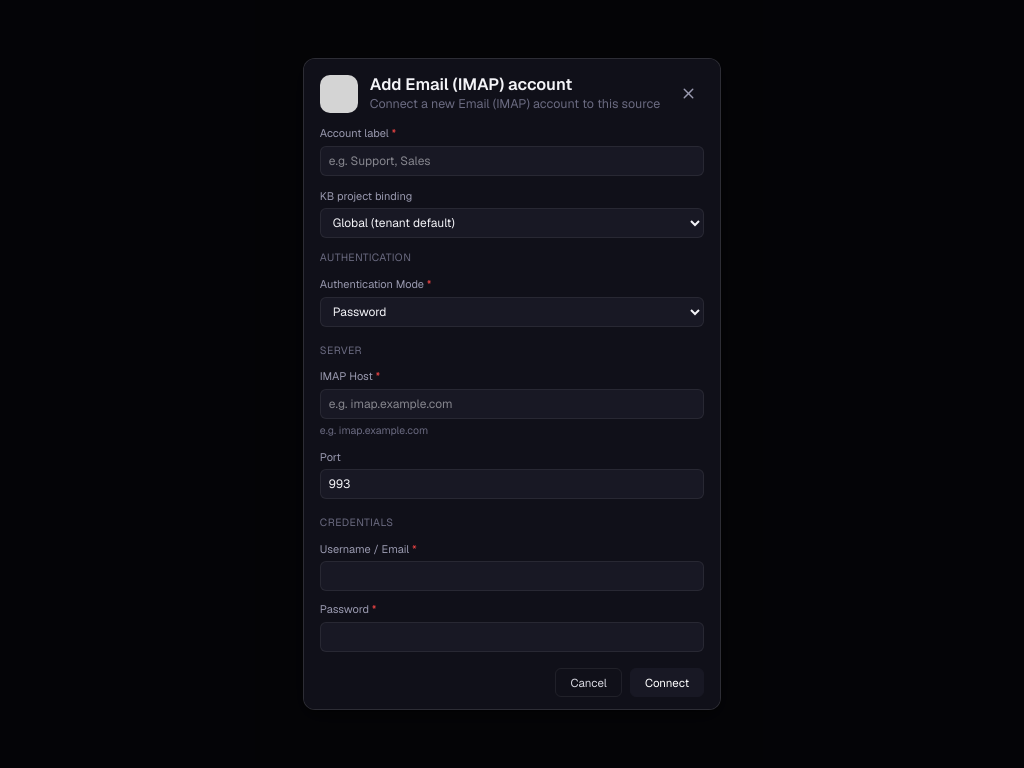
Test: CredentialConnectorForm › honours showIf: switching to xoauth2 hides host/password and reveals the provider
Select "OAuth2" in the dropdown with test id "connector-imap-form-auth_mode": (512, 312) x1=320 y1=297 x2=704 y2=327
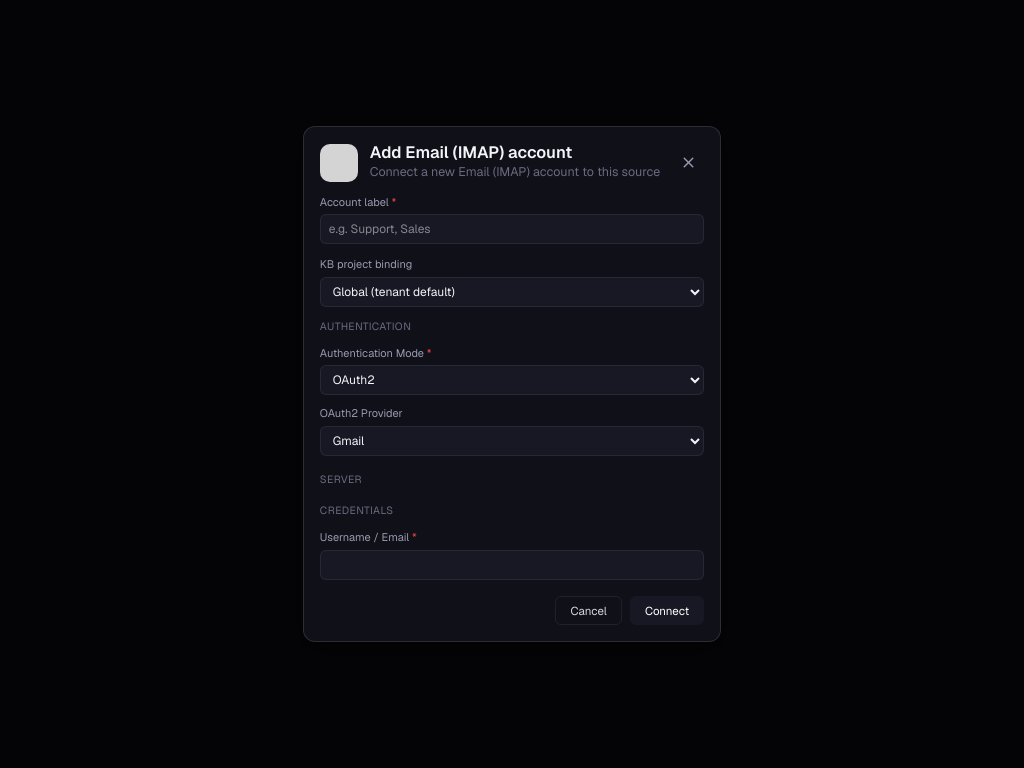
Expected: the field with test id "connector-imap-form-host" is gone
Expected: the password field with test id "connector-imap-form-password" is gone
Expected: the dropdown with test id "connector-imap-form-xoauth2_provider" is shown, x1=320 y1=426 x2=704 y2=456
